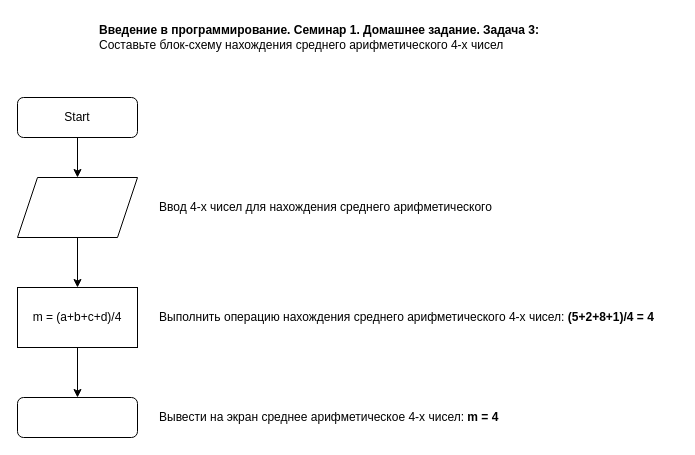
The diagram is 695 pixels wide and 455 high, and some of its shapes have lost their labels. The shapes that lost their labels are listed below. From the top down, each one's box as (x1, y1, x2, y2) in pixels, then its label:
(16, 176, 138, 238): a = 5 b = 2 c = 8 d = 1
(16, 396, 138, 438): print (m)
